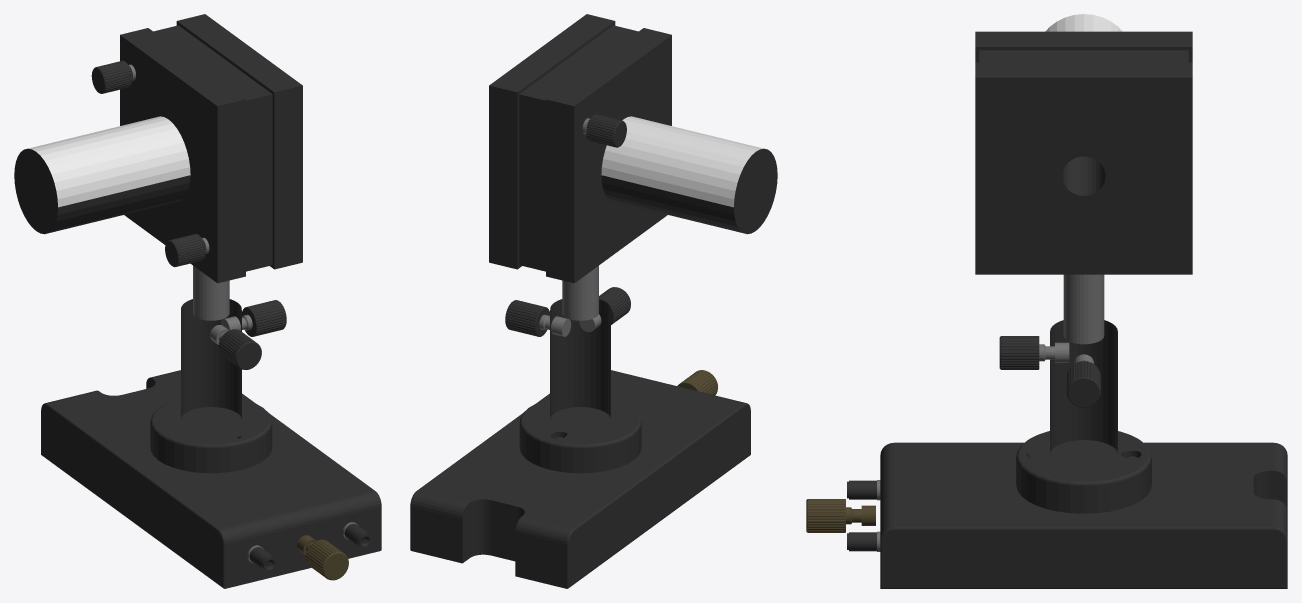
The model's file is 新发射器.fbx.
3 renders of one model, left to right at view 1: azimuth 30°, elevation 25°; view 2: azimuth 150°, elevation 25°; view 3: azimuth 270°, elevation 25°, orthographic. The views are drawn at different scales.
Visible parts, largest first — view 1: 滑座, 立方体, 立方体.001, 支架, 大旋钮, 大旋钮.001, 大旋钮.002, 调节旋钮.002, 调节旋钮.001, 小旋扭; view 2: 滑座, 立方体, 立方体.001, 支架, 大旋钮.002, 调节旋钮.001, 大旋钮.001, 大旋钮, 大旋钮座.002; view 3: 立方体, 滑座, 支架, 大旋钮.001, 大旋钮.002, 大旋钮, 小旋扭, 立方体.001.
Part boxes in pixels (<box>): 滑座: <box>41,370,381,588</box>; 立方体: <box>120,14,302,283</box>; 立方体.001: <box>14,116,190,234</box>; 支架: <box>150,266,272,473</box>; 大旋钮: <box>305,539,348,580</box>; 大旋钮.001: <box>218,329,261,369</box>; 大旋钮.002: <box>242,300,286,336</box>; 调节旋钮.002: <box>165,234,209,267</box>; 调节旋钮.001: <box>91,60,135,93</box>; 小旋扭: <box>249,524,371,572</box>; 滑座: <box>410,370,750,588</box>; 立方体: <box>489,14,671,283</box>; 立方体.001: <box>601,116,777,234</box>; 支架: <box>519,266,641,473</box>; 大旋钮.002: <box>505,300,549,336</box>; 调节旋钮.001: <box>582,114,626,147</box>; 大旋钮.001: <box>599,287,630,324</box>; 大旋钮: <box>677,370,717,395</box>; 大旋钮座.002: <box>539,314,571,336</box>; 立方体: <box>975,31,1192,274</box>; 滑座: <box>880,442,1287,588</box>; 支架: <box>1016,274,1151,513</box>; 大旋钮.001: <box>999,336,1039,369</box>; 大旋钮.002: <box>1067,361,1100,407</box>; 大旋钮: <box>806,499,845,532</box>; 小旋扭: <box>847,480,876,551</box>; 立方体.001: <box>1045,14,1122,31</box>.
Size of the model in its own units: 96.25 by 160 by 142.
